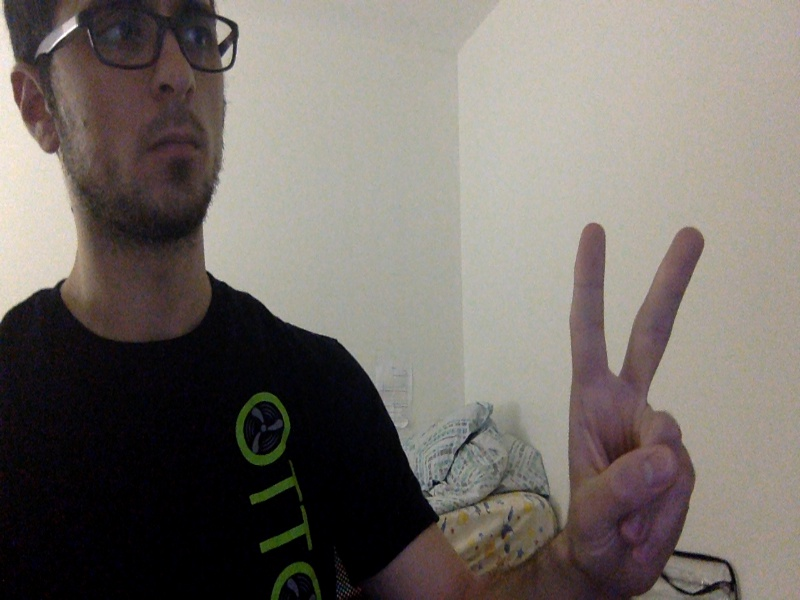2-hand: (566, 217, 706, 590)
